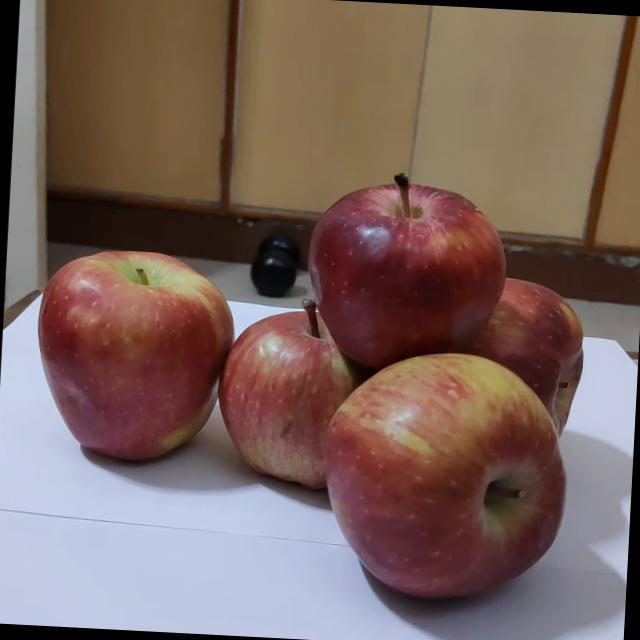apple: (267, 354, 548, 636), (18, 242, 254, 490), (382, 280, 602, 502), (279, 176, 492, 404), (196, 300, 378, 521)
